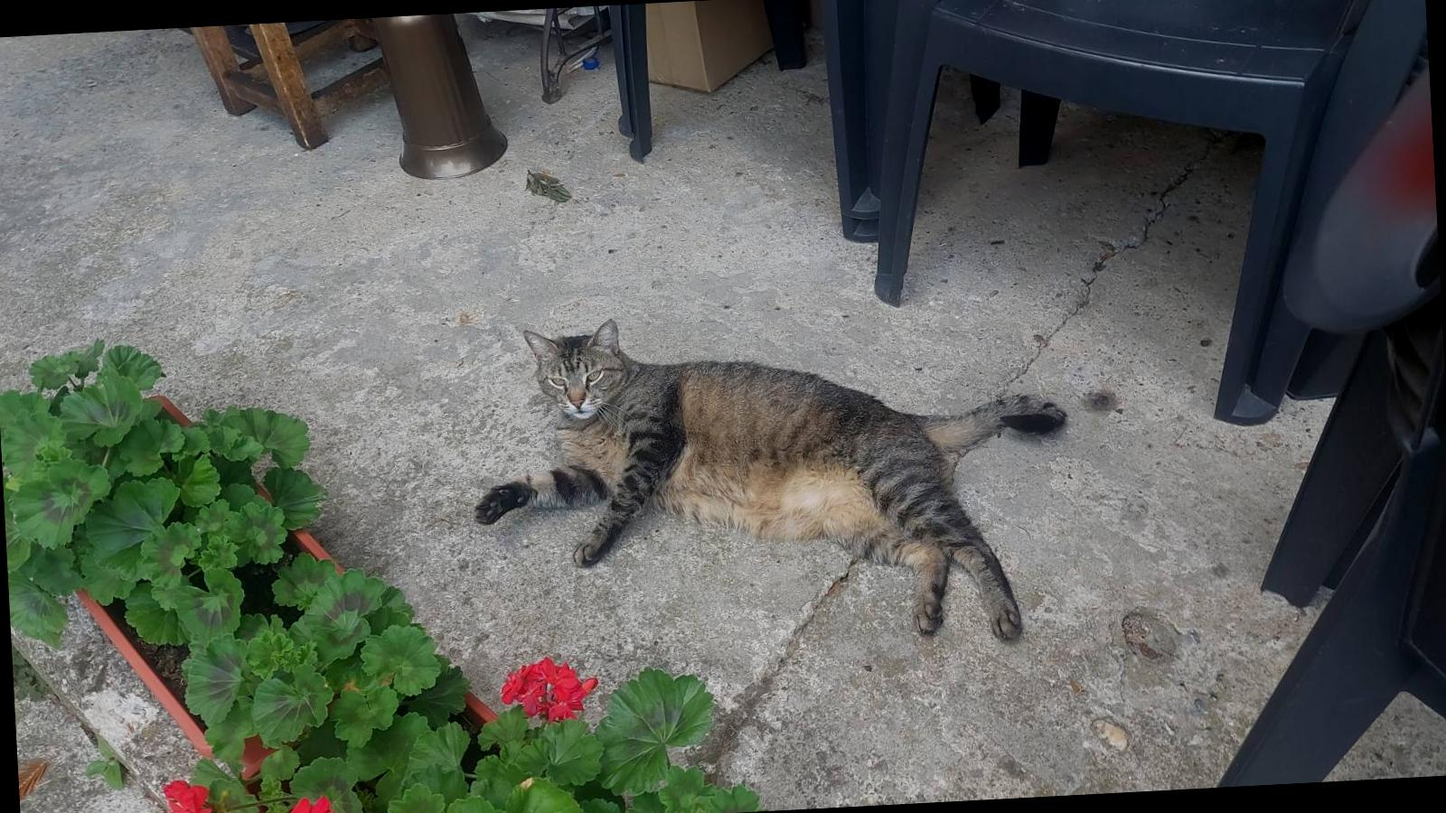macka: (459, 295, 1080, 668)
